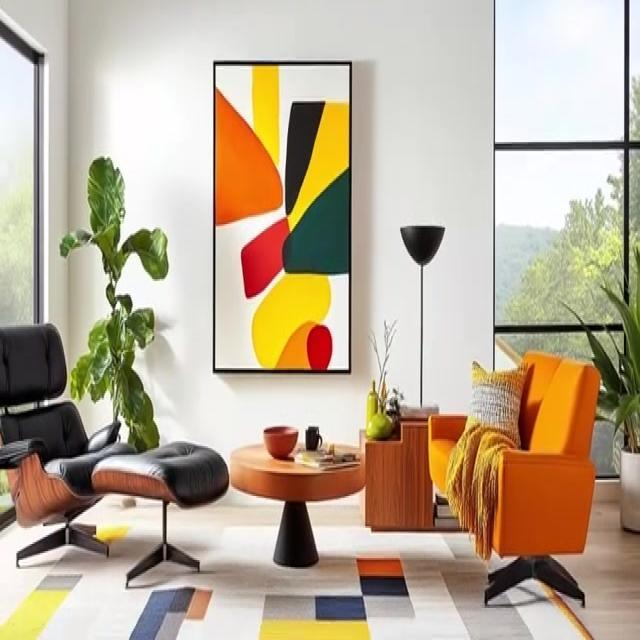door: (0, 5, 48, 530)
obstacle: (427, 348, 600, 608), (0, 320, 136, 569), (229, 439, 365, 567)
